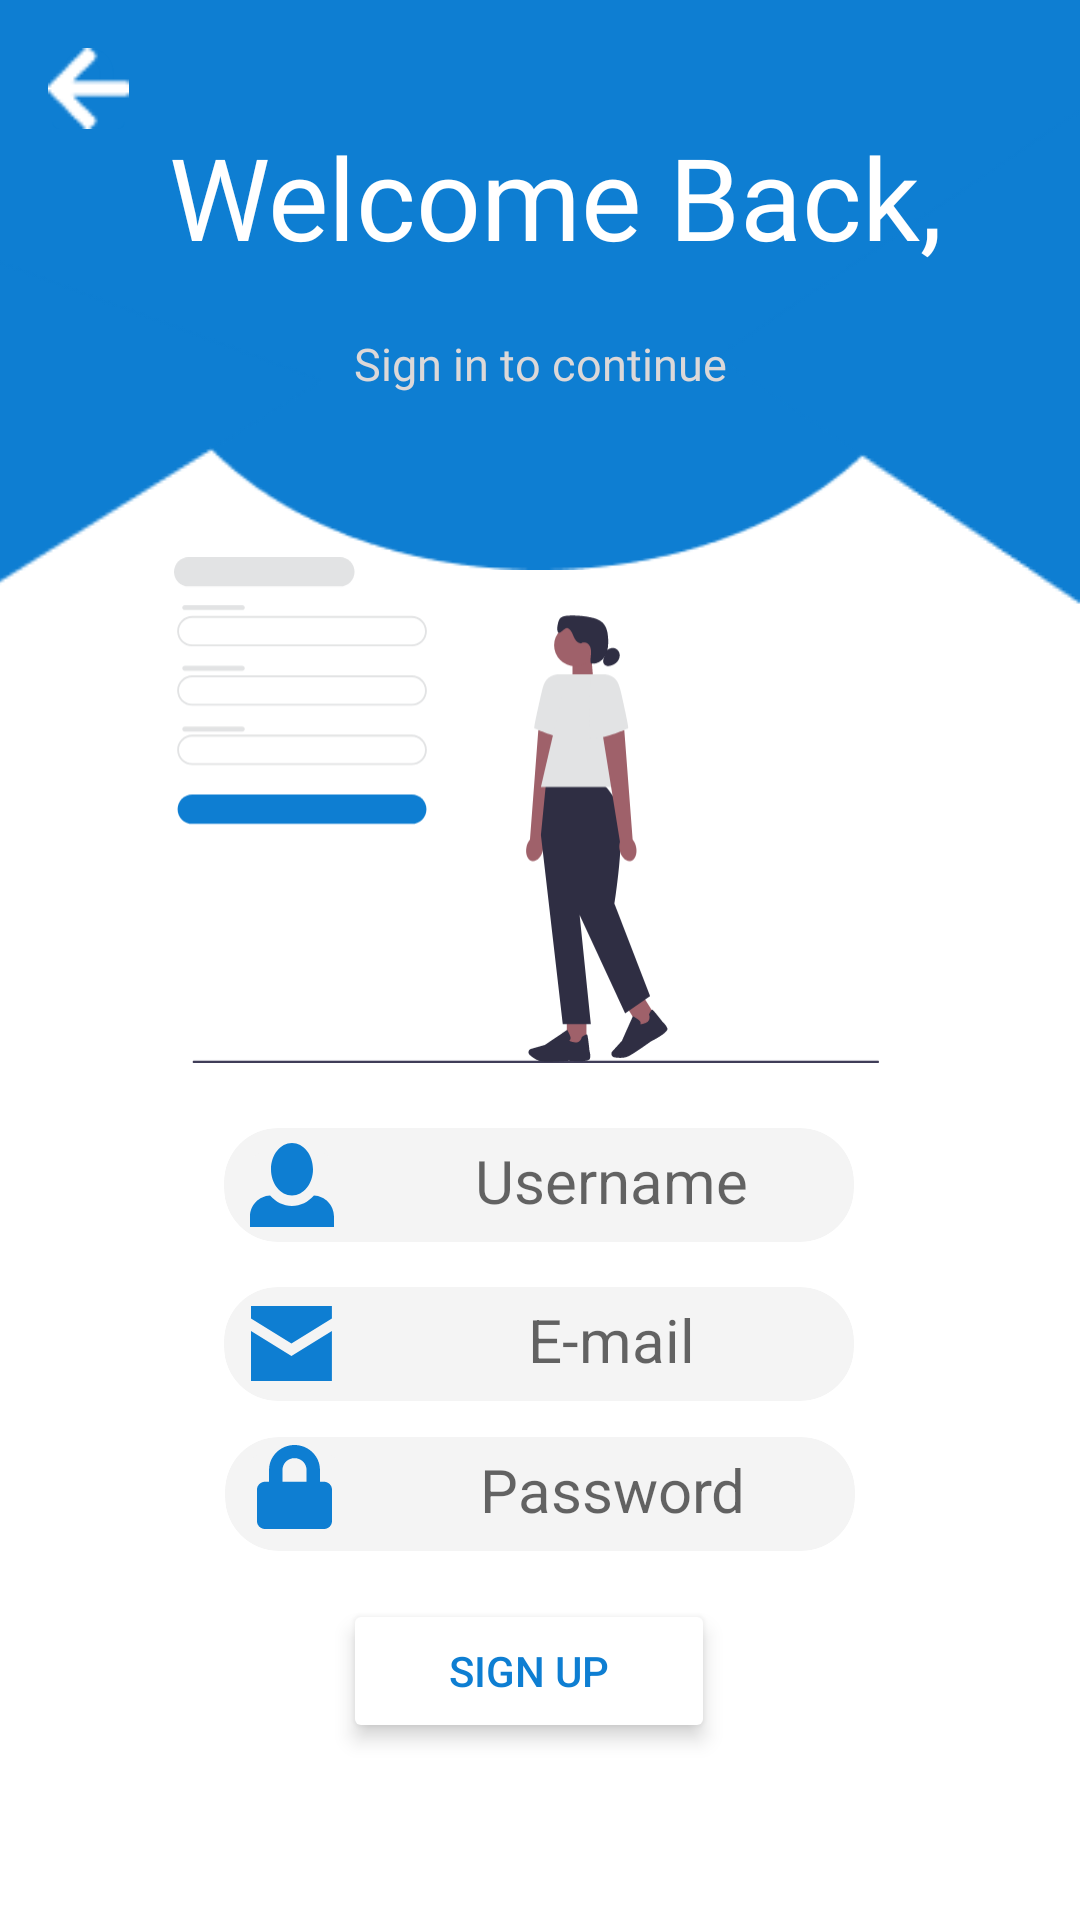

Icons on this 1080px x 1920px Android screen, each with the point to tap as [x,y]:
envelope closed: [291,1343]
person: [292,1185]
